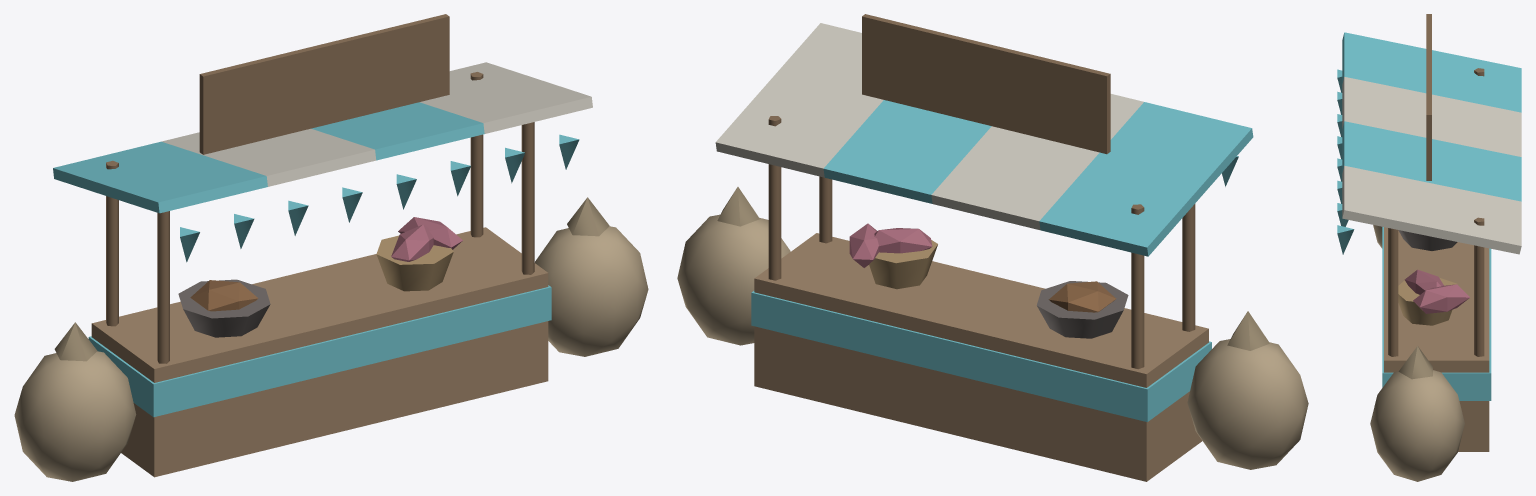
Rendered from paradeta-referencia.glb.
3 views of the same model, side by side, from view 1: azimuth 30°, elevation 25°; view 2: azimuth 150°, elevation 25°; view 3: azimuth 270°, elevation 25° (orthographic). The views are drawn at different scales.
Parts seen in each view (by area): view 1: paradeta-1, paradeta-19, paradeta-2, paradeta-26, paradeta-28, paradeta-7, paradeta-10, paradeta-8, paradeta-9, paradeta-20, paradeta-21, paradeta-23 (+9 smaller); view 2: paradeta-1, paradeta-20, paradeta-7, paradeta-2, paradeta-10, paradeta-26, paradeta-8, paradeta-9, paradeta-28, paradeta-21, paradeta-23, paradeta-3 (+8 smaller); view 3: paradeta-10, paradeta-1, paradeta-28, paradeta-9, paradeta-8, paradeta-7, paradeta-2, paradeta-6, paradeta-5, paradeta-25, paradeta-23, paradeta-20 (+4 smaller).
Boxes of the visible parts, x1=… form: paradeta-1: x1=91, y1=227, x2=548, y2=477; paradeta-19: x1=208, y1=22, x2=444, y2=149; paradeta-2: x1=88, y1=285, x2=551, y2=417; paradeta-26: x1=14, y1=351, x2=136, y2=481; paradeta-28: x1=535, y1=226, x2=648, y2=356; paradeta-7: x1=53, y1=141, x2=267, y2=213; paradeta-10: x1=420, y1=62, x2=592, y2=133; paradeta-8: x1=162, y1=128, x2=376, y2=186; paradeta-9: x1=311, y1=102, x2=484, y2=160; paradeta-20: x1=199, y1=14, x2=449, y2=154; paradeta-21: x1=178, y1=279, x2=270, y2=337; paradeta-23: x1=376, y1=235, x2=453, y2=291; paradeta-1: x1=754, y1=233, x2=1208, y2=481; paradeta-20: x1=862, y1=14, x2=1110, y2=154; paradeta-7: x1=1039, y1=102, x2=1253, y2=256; paradeta-2: x1=751, y1=291, x2=1211, y2=421; paradeta-10: x1=715, y1=23, x2=883, y2=177; paradeta-26: x1=1187, y1=339, x2=1308, y2=469; paradeta-8: x1=931, y1=94, x2=1143, y2=229; paradeta-9: x1=823, y1=100, x2=991, y2=203; paradeta-28: x1=677, y1=214, x2=790, y2=345; paradeta-21: x1=1036, y1=281, x2=1128, y2=338; paradeta-23: x1=869, y1=240, x2=937, y2=289; paradeta-3: x1=1131, y1=204, x2=1144, y2=369; paradeta-10: x1=1342, y1=165, x2=1521, y2=254; paradeta-1: x1=1384, y1=227, x2=1489, y2=451; paradeta-28: x1=1370, y1=370, x2=1464, y2=481; paradeta-9: x1=1342, y1=121, x2=1521, y2=201; paradeta-8: x1=1342, y1=77, x2=1521, y2=156; paradeta-7: x1=1342, y1=32, x2=1521, y2=112; paradeta-2: x1=1382, y1=227, x2=1491, y2=400; paradeta-6: x1=1388, y1=228, x2=1398, y2=356; paradeta-5: x1=1474, y1=217, x2=1484, y2=356; paradeta-25: x1=1413, y1=284, x2=1469, y2=313; paradeta-23: x1=1398, y1=278, x2=1456, y2=325; paradeta-20: x1=1426, y1=14, x2=1431, y2=180.
Bounding box in the file's own units: 6.37 × 3.6 × 1.95.
